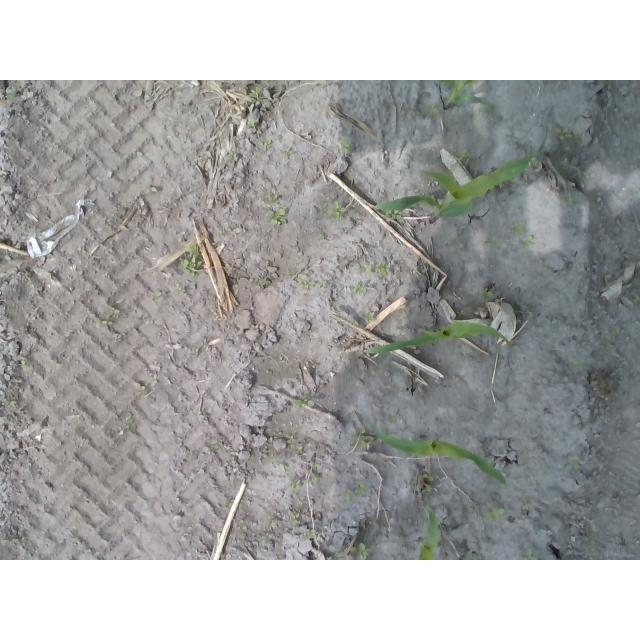Maize: (373, 121, 551, 219), (371, 428, 510, 488), (361, 321, 511, 356), (439, 81, 496, 112), (413, 504, 443, 560)
Weeds: (182, 245, 203, 272), (97, 307, 120, 328), (341, 482, 365, 502), (0, 87, 16, 110), (350, 431, 370, 446), (270, 208, 287, 225), (143, 175, 158, 194), (555, 127, 573, 142), (421, 472, 434, 492), (486, 508, 506, 520), (559, 193, 576, 207), (334, 200, 347, 216), (454, 149, 471, 161), (294, 399, 314, 409), (339, 139, 354, 152), (210, 438, 223, 453), (357, 542, 367, 560), (258, 139, 274, 150), (386, 209, 402, 220), (352, 283, 366, 295), (299, 275, 310, 290), (521, 549, 536, 560), (174, 286, 186, 299), (225, 150, 238, 162), (301, 529, 315, 540), (254, 276, 270, 285), (522, 236, 534, 248), (280, 145, 292, 157), (264, 195, 277, 206), (489, 236, 500, 249), (480, 289, 493, 300), (249, 87, 263, 97), (375, 266, 390, 275), (288, 479, 301, 489), (606, 343, 617, 354), (291, 514, 301, 524), (7, 400, 17, 409), (316, 231, 325, 241), (513, 223, 523, 232), (247, 120, 257, 129), (249, 322, 259, 331), (366, 312, 375, 321), (222, 225, 230, 235), (20, 359, 28, 369), (240, 519, 247, 529)
